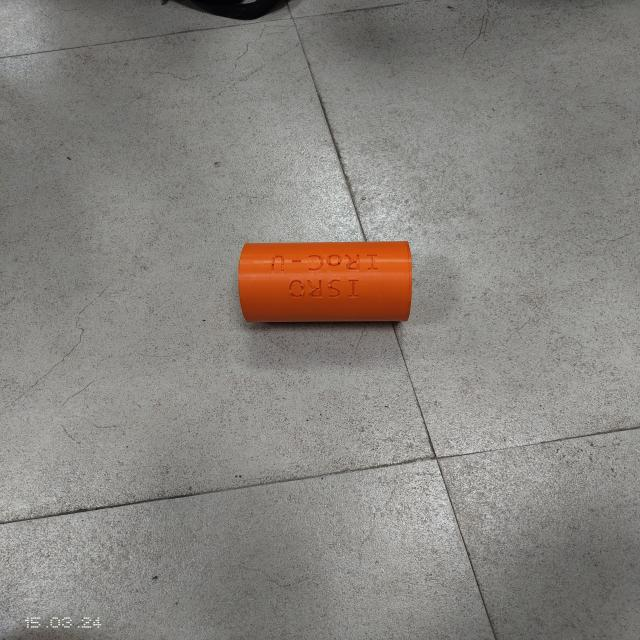Cylinder: (237, 240, 413, 324)
